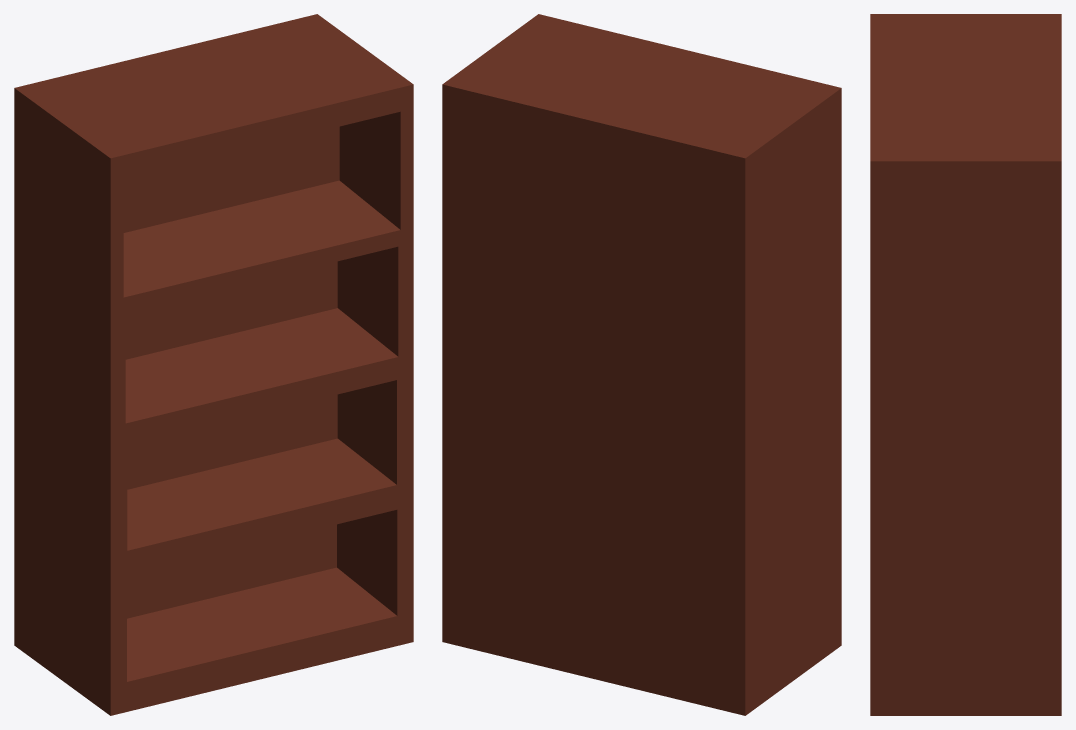
File: bookshelf.glb
3 renders of one model, left to right at view 1: azimuth 30°, elevation 25°; view 2: azimuth 150°, elevation 25°; view 3: azimuth 270°, elevation 25°, orthographic.
Parts seen in each view (by area): view 1: bookShelf; view 2: bookShelf; view 3: bookShelf.
Boxes of the visible parts, x1=… form: bookShelf: x1=14, y1=14, x2=413, y2=715; bookShelf: x1=442, y1=14, x2=841, y2=715; bookShelf: x1=870, y1=14, x2=1061, y2=715.
Size of the model in its own units: 1.69 by 2.98 by 0.932.
